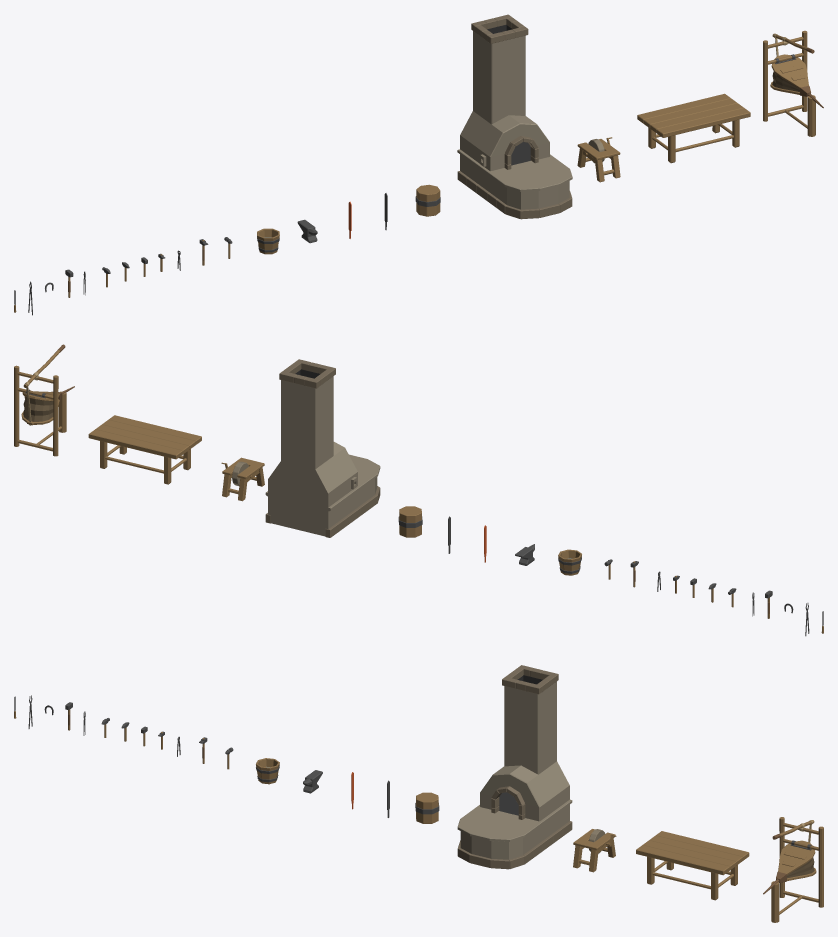
File: blacksmith-tools-pack-1.fbx
The picture shows the model from 3 angles, top to bottom: view 1: azimuth 30°, elevation 25°; view 2: azimuth 150°, elevation 25°; view 3: azimuth 330°, elevation 25°; orthographic projection.
Visible parts, largest first — view 1: Forge, Table, Bellow, Grindstone, HalfLog; view 2: Forge, Table, Bellow, Grindstone, HalfLog, Barell; view 3: Forge, Table, Bellow, Grindstone, HalfLog, Barell.
Part boxes in pixels (x1=…): Forge: x1=457, y1=14, x2=572, y2=219; Table: x1=637, y1=93, x2=750, y2=163; Bellow: x1=763, y1=30, x2=823, y2=136; Grindstone: x1=577, y1=137, x2=620, y2=182; HalfLog: x1=415, y1=184, x2=440, y2=216; Forge: x1=265, y1=359, x2=380, y2=537; Table: x1=88, y1=415, x2=201, y2=484; Bellow: x1=14, y1=344, x2=74, y2=456; Grindstone: x1=221, y1=457, x2=264, y2=501; HalfLog: x1=398, y1=506, x2=422, y2=537; Barell: x1=558, y1=549, x2=581, y2=575; Forge: x1=457, y1=665, x2=572, y2=869; Table: x1=636, y1=831, x2=749, y2=900; Bellow: x1=763, y1=817, x2=823, y2=922; Grindstone: x1=573, y1=829, x2=616, y2=872; HalfLog: x1=415, y1=792, x2=439, y2=823; Barell: x1=256, y1=758, x2=279, y2=784.
Bounding box in the file's own units: 1887 × 365 × 246.
